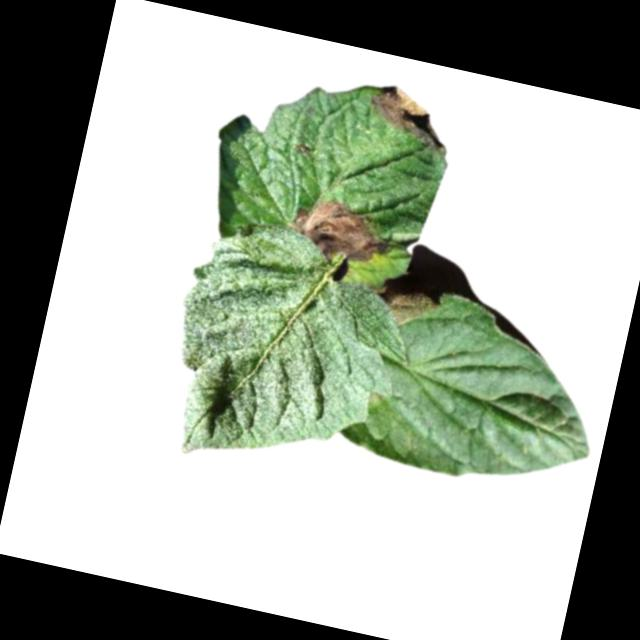Late_blight: (281, 190, 400, 275), (364, 81, 458, 154), (366, 282, 442, 333), (291, 142, 311, 158)
